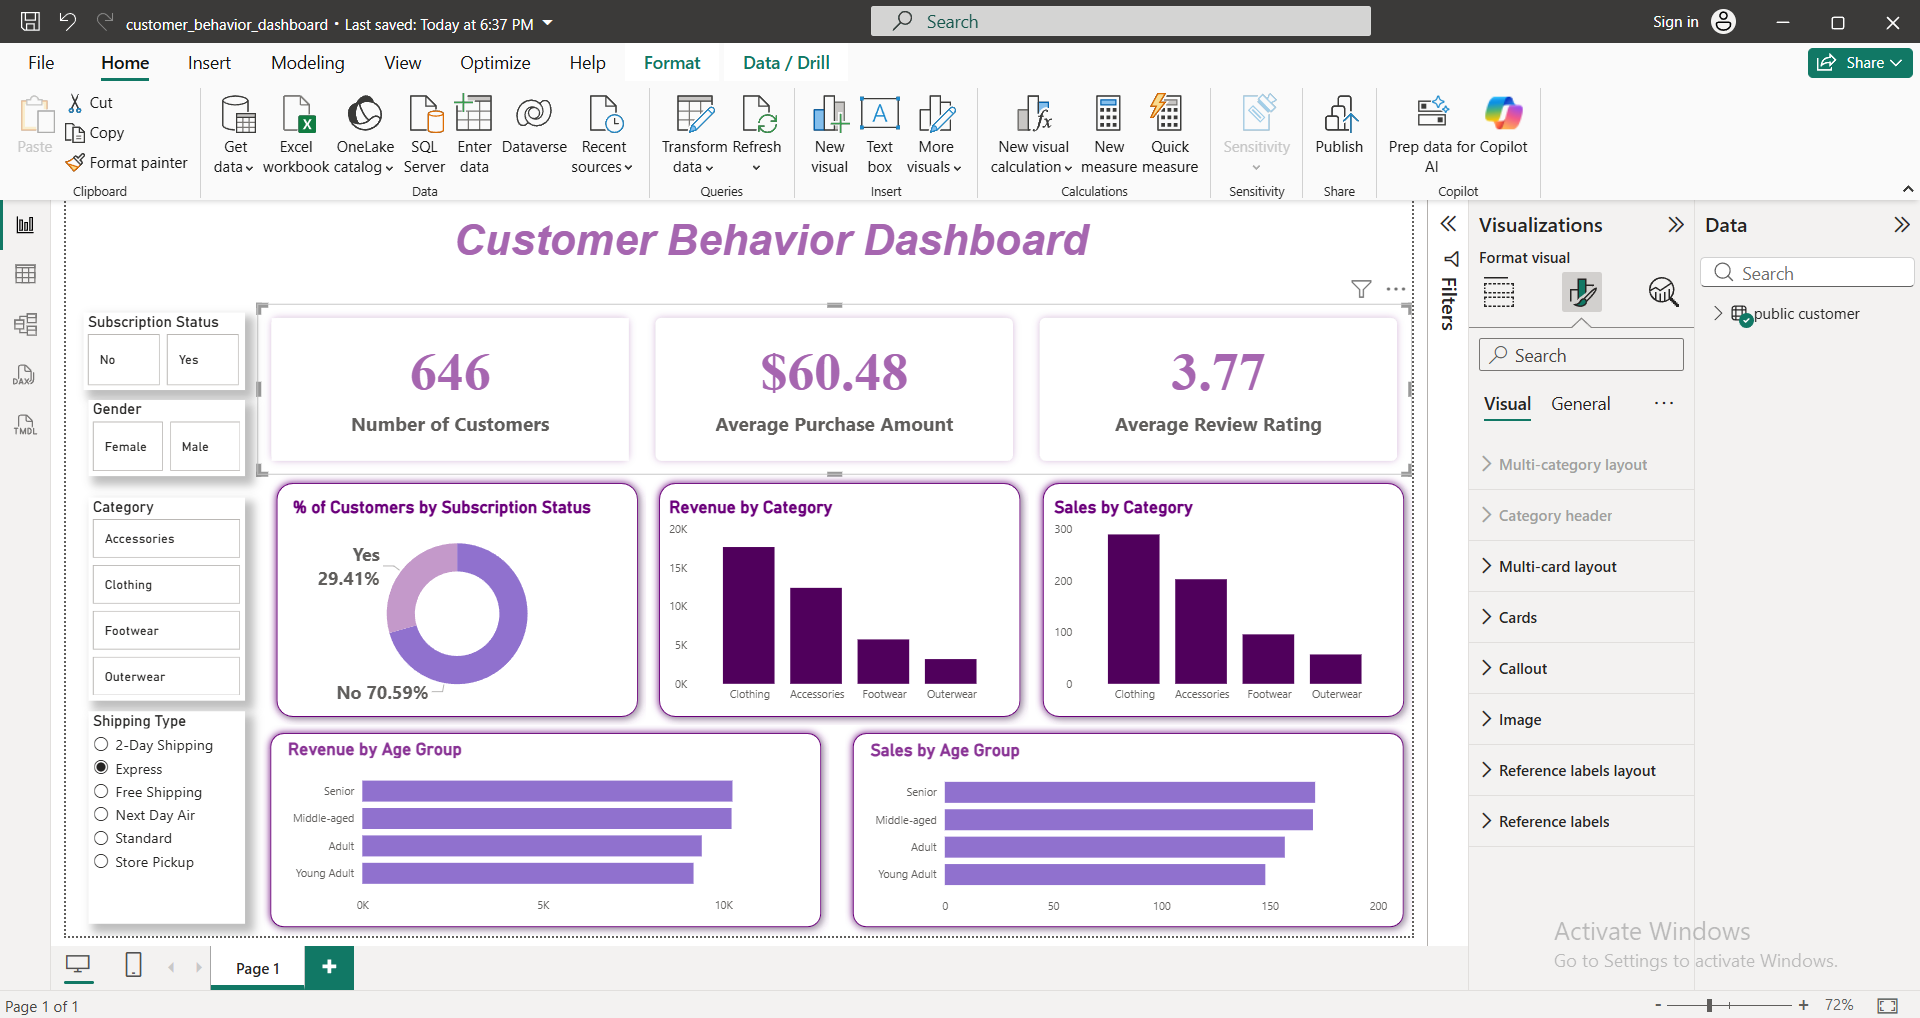

This screenshot's page, from the dashboard's own definition file:
{"tool":"powerbi","page":{"name":"Page 1","canvas":[1500,820],"ordinal":0},"visuals":[{"type":"cardVisual","fields":{"Data":["public customer.Number of Customers","public customer.Average Purchase Amount","public customer.Average Review Rating"]},"box":[212.9,115.3,1286.5,191.6],"z":2000},{"type":"shape","box":[218.3,585.6,631.7,234.2],"z":2500,"group":"g1"},{"type":"textbox","box":[0,12.8,1498.9,72.3],"z":4000},{"type":"shape","box":[225.4,307,420.5,278.6],"z":5000},{"type":"donutChart","title":"% of Customers by Subscription Status","fields":{"Category":["public customer.subscription_status"],"Y":["CountNonNull(public customer.customer_id)"]},"box":[248.4,331.8,376.2,237.8],"z":6000},{"type":"shape","box":[1078.9,307,420.5,278.6],"z":7000},{"type":"shape","box":[652.1,307,420.5,278.6],"z":8000},{"type":"clusteredColumnChart","title":"Revenue by Category","fields":{"Y":["Sum(public customer.purchase_amount)"],"Category":["public customer.category"]},"box":[667.2,331.8,385.1,237.8],"z":9000},{"type":"clusteredColumnChart","title":"Sales by Category","fields":{"Y":["CountNonNull(public customer.customer_id)"],"Category":["public customer.category"]},"box":[1096.6,331.8,385.1,237.8],"z":10000},{"type":"advancedSlicerVisual","fields":{"Values":["public customer.subscription_status"]},"box":[19.8,124.7,179.9,86.4],"z":12000},{"type":"advancedSlicerVisual","fields":{"Values":["public customer.gender"]},"box":[25.5,222.4,174.3,85],"z":13000},{"type":"advancedSlicerVisual","fields":{"Values":["public customer.category"]},"box":[25.5,331.5,174.3,226.7],"z":14000},{"type":"listSlicer","fields":{"Values":["public customer.shipping_type"]},"box":[25.5,569.5,174.3,236.6],"z":15000},{"type":"shape","box":[867.7,585.6,631.7,234.2],"z":16000},{"type":"clusteredBarChart","title":"Sales by Age Group","fields":{"Y":["CountNonNull(public customer.customer_id)"],"Category":["public customer.age_group"]},"box":[890.8,601.5,585.6,204.1],"z":17000},{"type":"clusteredBarChart","title":"Revenue by Age Group","fields":{"Y":["Sum(public customer.purchase_amount)"],"Category":["public customer.age_group"]},"box":[241.4,601.6,585.6,204.1],"z":17500,"group":"g1"},{"type":"group","id":"g1","title":"Group 1","box":[218.3,585.6,631.7,234.2],"z":17501}]}

Visuals, with their boxes on the page's 1500x820 design canvas (x1, y1, x2, y2). These are canvas units, not pixel positions in the 1920x1018 screenshot, which may show the page scaled, cropped or inside an application window:
cardVisual - public customer.Number of Customers x public customer.Average Purchase Amount: (213,115,1499,307)
shape: (218,586,850,820)
textbox: (0,13,1499,85)
shape: (225,307,646,586)
"% of Customers by Subscription Status" donutChart: (248,332,625,570)
shape: (1079,307,1499,586)
shape: (652,307,1073,586)
"Revenue by Category" clusteredColumnChart: (667,332,1052,570)
"Sales by Category" clusteredColumnChart: (1097,332,1482,570)
advancedSlicerVisual - public customer.subscription_status: (20,125,200,211)
advancedSlicerVisual - public customer.gender: (26,222,200,307)
advancedSlicerVisual - public customer.category: (26,332,200,558)
listSlicer - public customer.shipping_type: (26,570,200,806)
shape: (868,586,1499,820)
"Sales by Age Group" clusteredBarChart: (891,602,1476,806)
"Revenue by Age Group" clusteredBarChart: (241,602,827,806)
"Group 1" group: (218,586,850,820)
